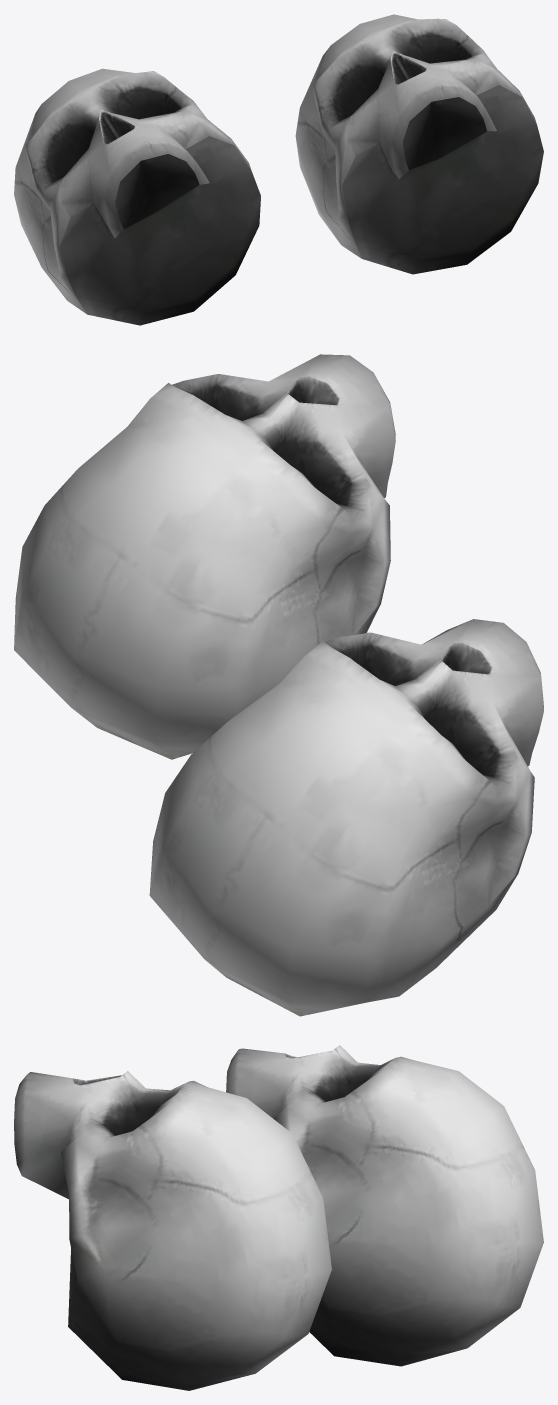
3 views of the same model, one above another, from view 1: azimuth 30°, elevation 25°; view 2: azimuth 150°, elevation 25°; view 3: azimuth 270°, elevation 25° (orthographic). The views are drawn at different scales.
Visible parts, largest first — view 1: body0_model0_lod0_mesh0; view 2: body0_model0_lod0_mesh0; view 3: body0_model0_lod0_mesh0.
Boxes of the visible parts, box(x1,y1,x2,y2) form: body0_model0_lod0_mesh0: box(14, 14, 543, 325); body0_model0_lod0_mesh0: box(14, 354, 543, 1016); body0_model0_lod0_mesh0: box(14, 1045, 543, 1390).
Size of the model in its own units: 10.98 by 8.04 by 10.55.
Materials: 1 (1 with a texture image).
